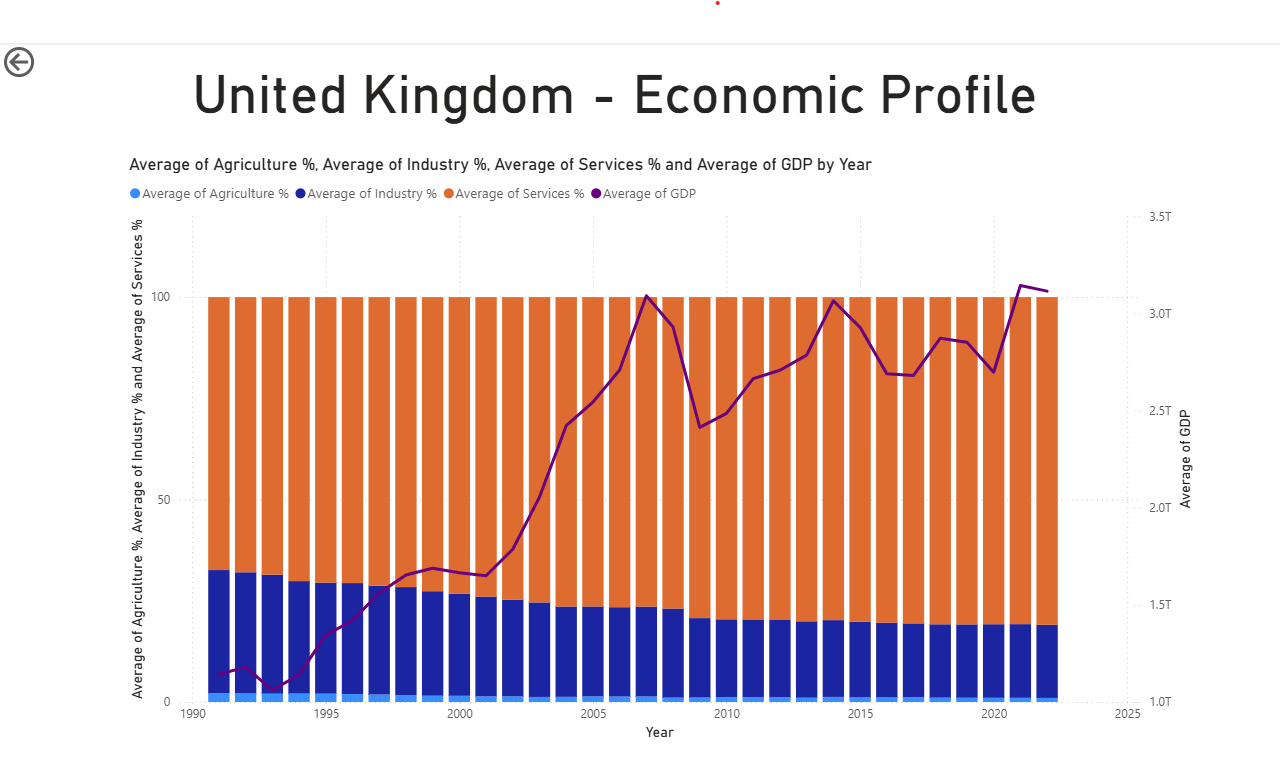

This screenshot's page, from the dashboard's own definition file:
{"tool":"powerbi","page":{"name":"Country Deep Dive","canvas":[1280,720],"ordinal":2},"visuals":[{"type":"actionButton","box":[0,0,100,40],"z":0},{"type":"card","fields":{"Values":["Dates.Country Page Title"]},"box":[124.3,0,980.3,89.4],"z":1000},{"type":"lineStackedColumnComboChart","fields":{"Category":["Dates.Year"],"Y2":["Avg(Employment_Unemployment_GDP_data.GDP)"],"Y":["Avg(Employment_Unemployment_GDP_data.Agriculture %)","Avg(Employment_Unemployment_GDP_data.Industry %)","Avg(Employment_Unemployment_GDP_data.Services %)"]},"box":[124.3,111.5,1070.9,590.1],"z":2000}]}

Visuals, with their boxes on the page's 1280x720 design canvas (x1, y1, x2, y2). These are canvas units, not pixel positions in the 1280x763 screenshot, which may show the page scaled, cropped or inside an application window:
actionButton: [0, 0, 100, 40]
card - Dates.Country Page Title: [124, 0, 1105, 89]
lineStackedColumnComboChart - Dates.Year x Avg(Employment_Unemployment_GDP_data.GDP): [124, 112, 1195, 702]
